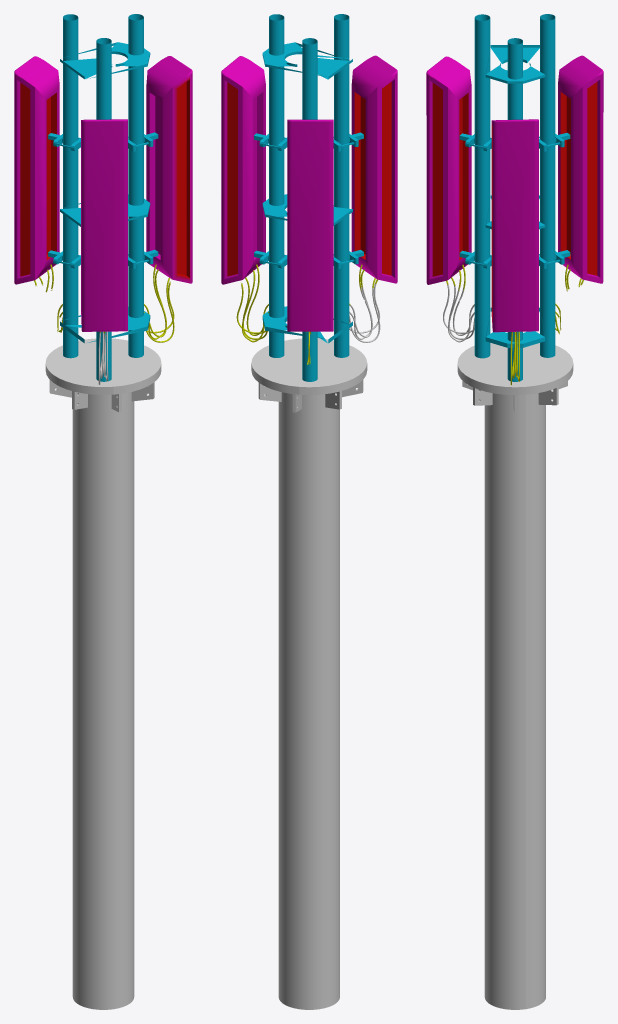
Rendered from 5Gtower_Cut.fbx.
3 views of the same model, side by side, from view 1: azimuth 30°, elevation 25°; view 2: azimuth 150°, elevation 25°; view 3: azimuth 270°, elevation 25° (orthographic).
Visible parts, largest first — view 1: 5g_cut.007, 5g_cut.003, 5g_cut.001, 5g_cut.005, 5g_cut, 5g_cut.006, 5g_cut.002, 5g_cut.004; view 2: 5g_cut.007, 5g_cut.005, 5g_cut.003, 5g_cut.001, 5g_cut, 5g_cut.006, 5g_cut.004, 5g_cut.002; view 3: 5g_cut.007, 5g_cut, 5g_cut.001, 5g_cut.005, 5g_cut.003, 5g_cut.006, 5g_cut.004, 5g_cut.002.
Part boxes in pixels (x1,y1,x2,y2): 5g_cut.007: (45,338,161,1009); 5g_cut.003: (81,119,127,333); 5g_cut.001: (146,56,192,283); 5g_cut.005: (14,56,59,292); 5g_cut: (48,14,112,381); 5g_cut.006: (61,14,158,357); 5g_cut.002: (144,280,174,342); 5g_cut.004: (98,331,108,384); 5g_cut.007: (251,338,367,1009); 5g_cut.005: (287,119,333,334); 5g_cut.003: (351,55,397,291); 5g_cut.001: (221,56,265,284); 5g_cut: (302,14,363,381); 5g_cut.006: (254,14,349,357); 5g_cut.004: (349,283,380,342); 5g_cut.002: (236,280,268,342); 5g_cut.007: (457,343,573,1009); 5g_cut: (459,14,570,358); 5g_cut.001: (491,119,538,332); 5g_cut.005: (558,55,603,291); 5g_cut.003: (426,56,471,290); 5g_cut.006: (485,38,545,381); 5g_cut.004: (443,284,474,342); 5g_cut.002: (507,331,523,385).
Size of the model in its own units: 13.35 by 91.22 by 15.06.
